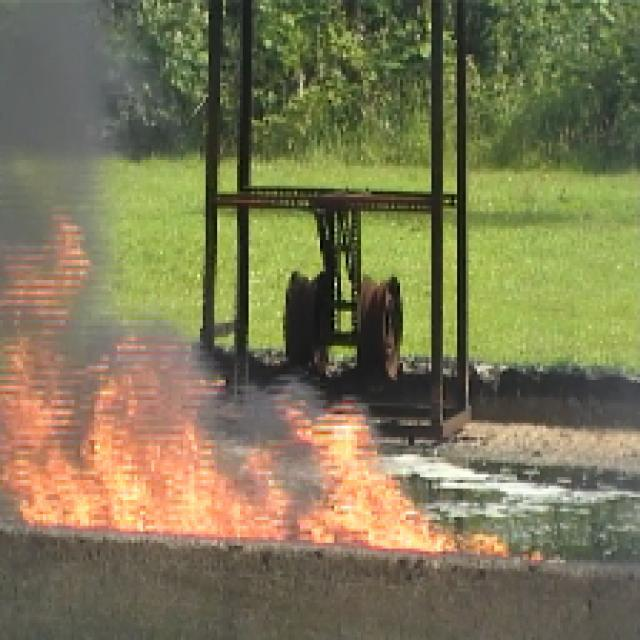Fire: (11, 394, 386, 542)
Smoke: (10, 12, 94, 181)
